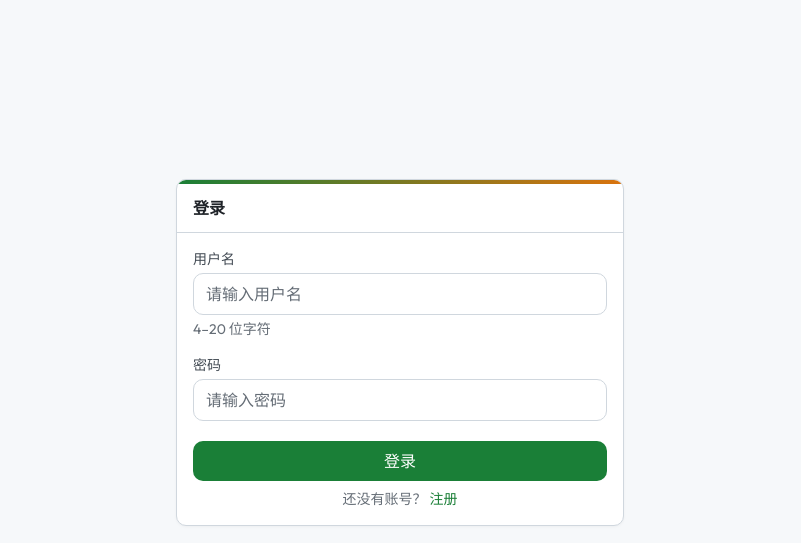
Test: Scheduled Transfer Flow › should_display_scheduled_list_with_status
Type "e2euser" into the field labelled "用户名" at (400, 294), box [193,273,607,315]
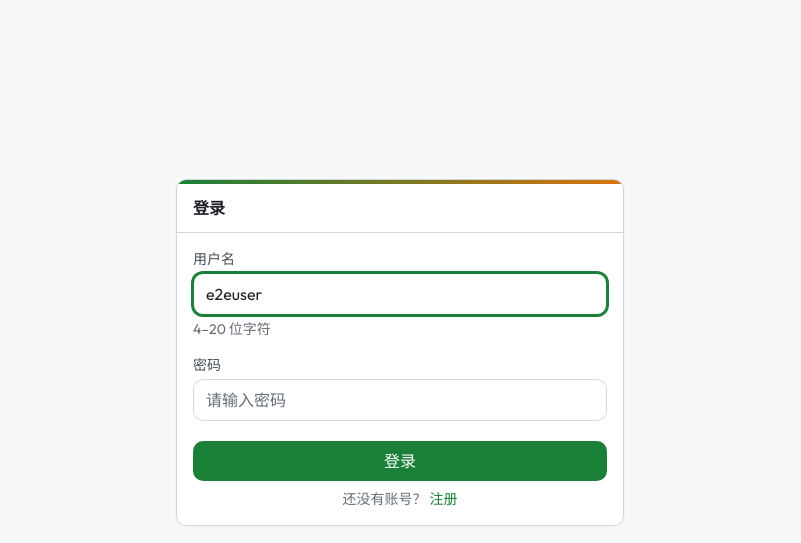
Type "password1" into the password field labelled "密码" at (400, 400), box [193,379,607,421]
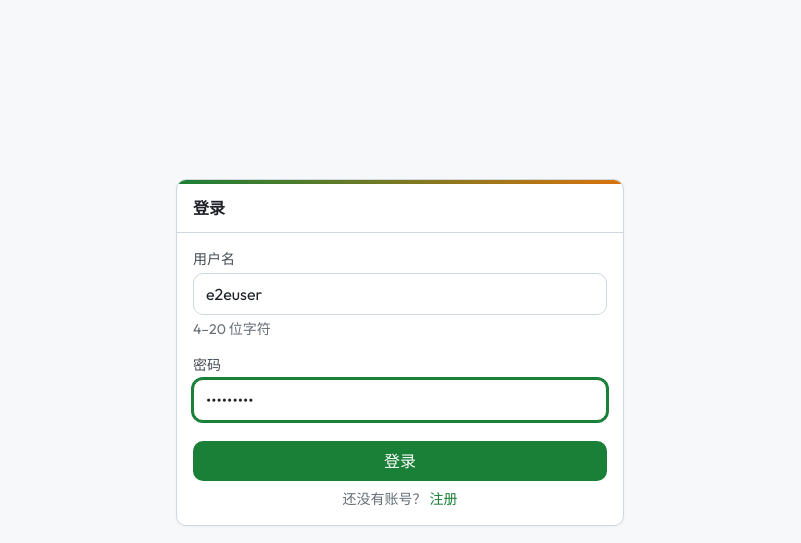
Click the submit button at (400, 461), box [193,441,607,481]
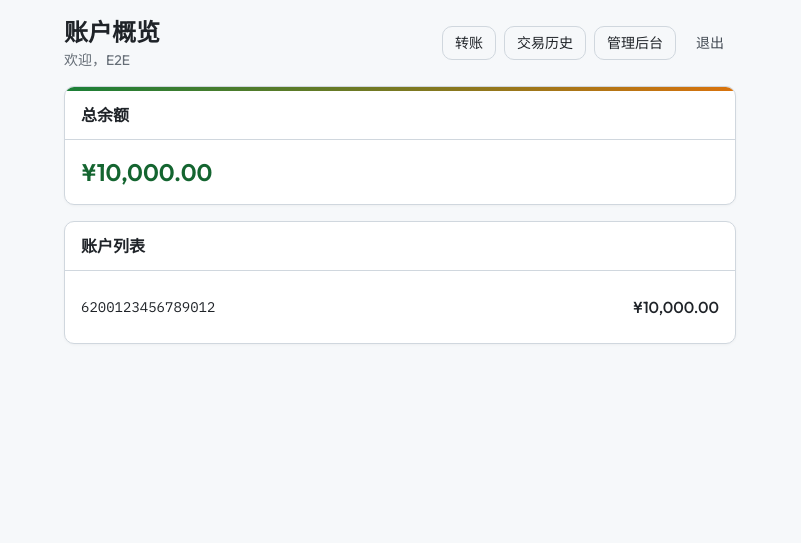
Open "/scheduled-transfer"
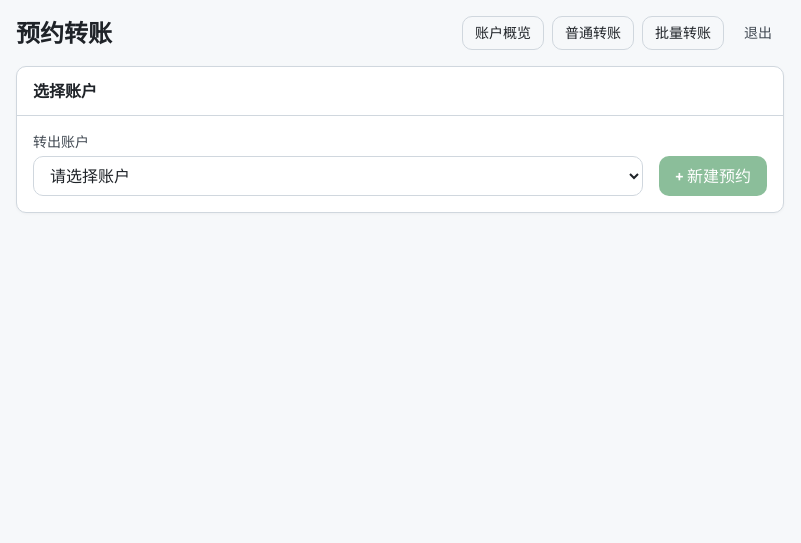
Select "6200123456789012（余额: 10000 CNY）" in the dropdown at (338, 176), box [33,156,643,196]
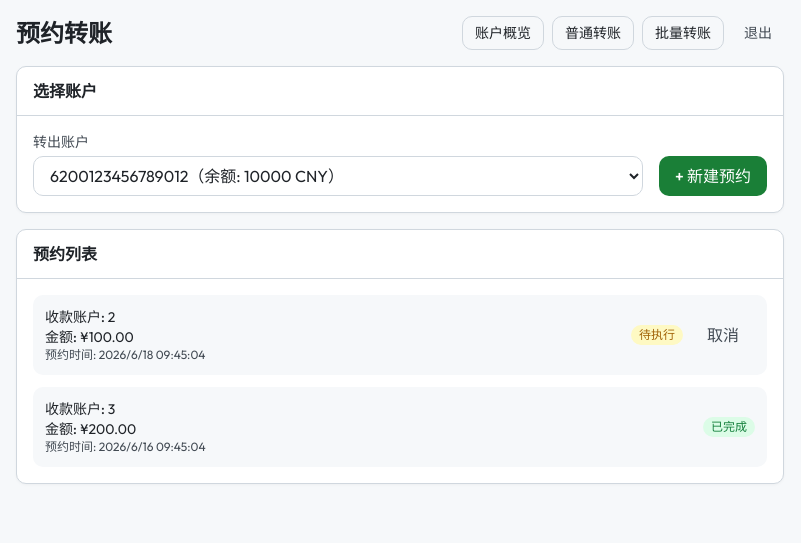
Now the heading "预约列表" is shown, box [33,244,97,264]
Now the text "待执行" is shown, box [631,325,683,345]
Now the text "已完成" is shown, box [703,417,755,437]
